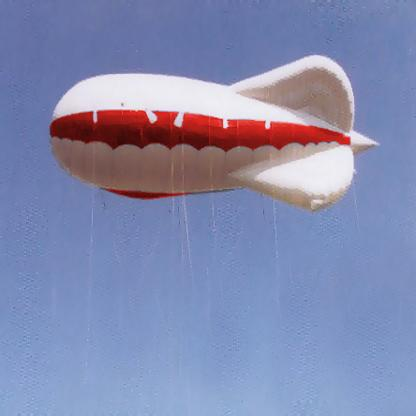Airship: (52, 54, 382, 217)
